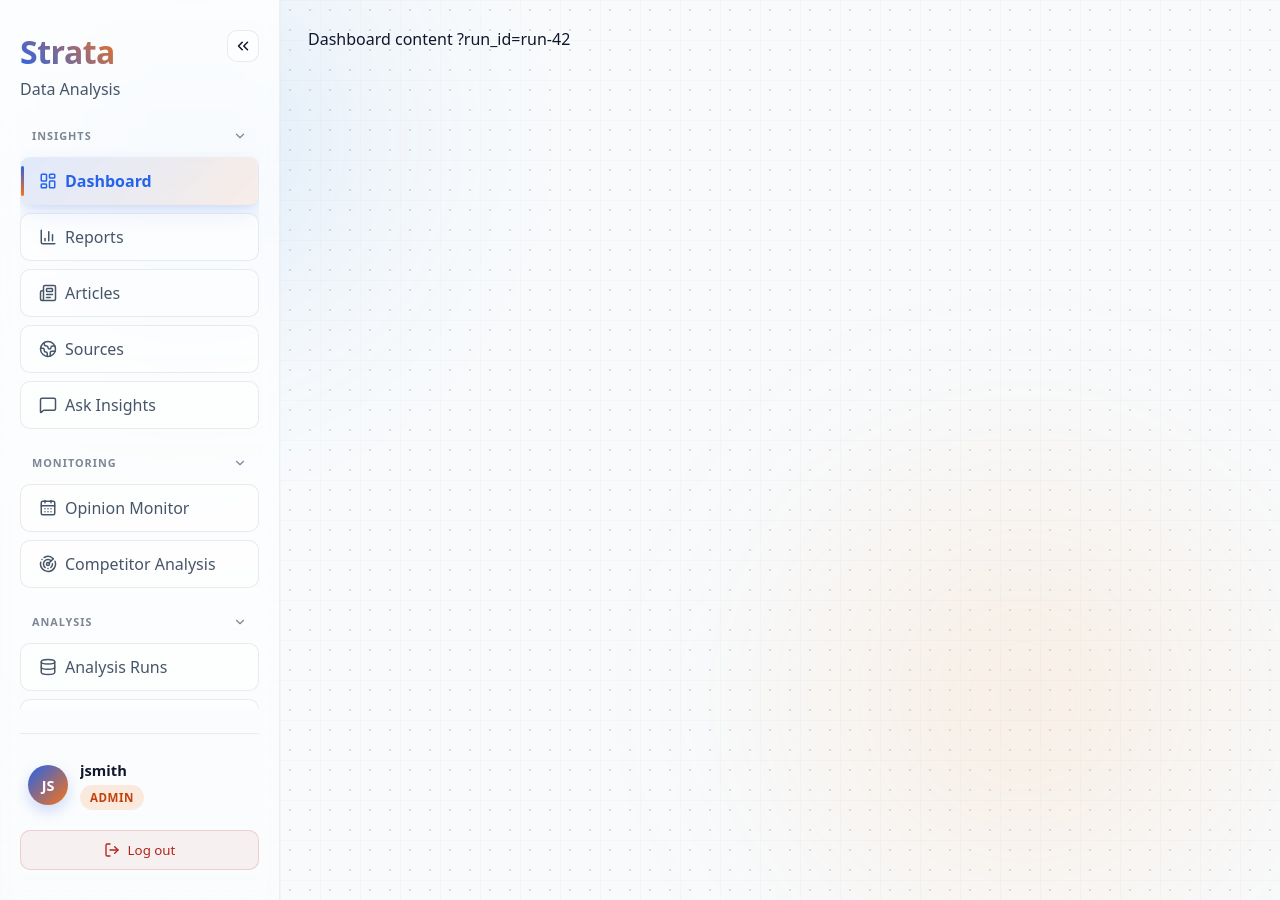
it: AppShell / Sidebar - RTL navigation and mobile drawer › preserves the analysis run selection when navigating from dashboard to reports
Click the link "Reports" at (140, 237), box [20,213,259,261]
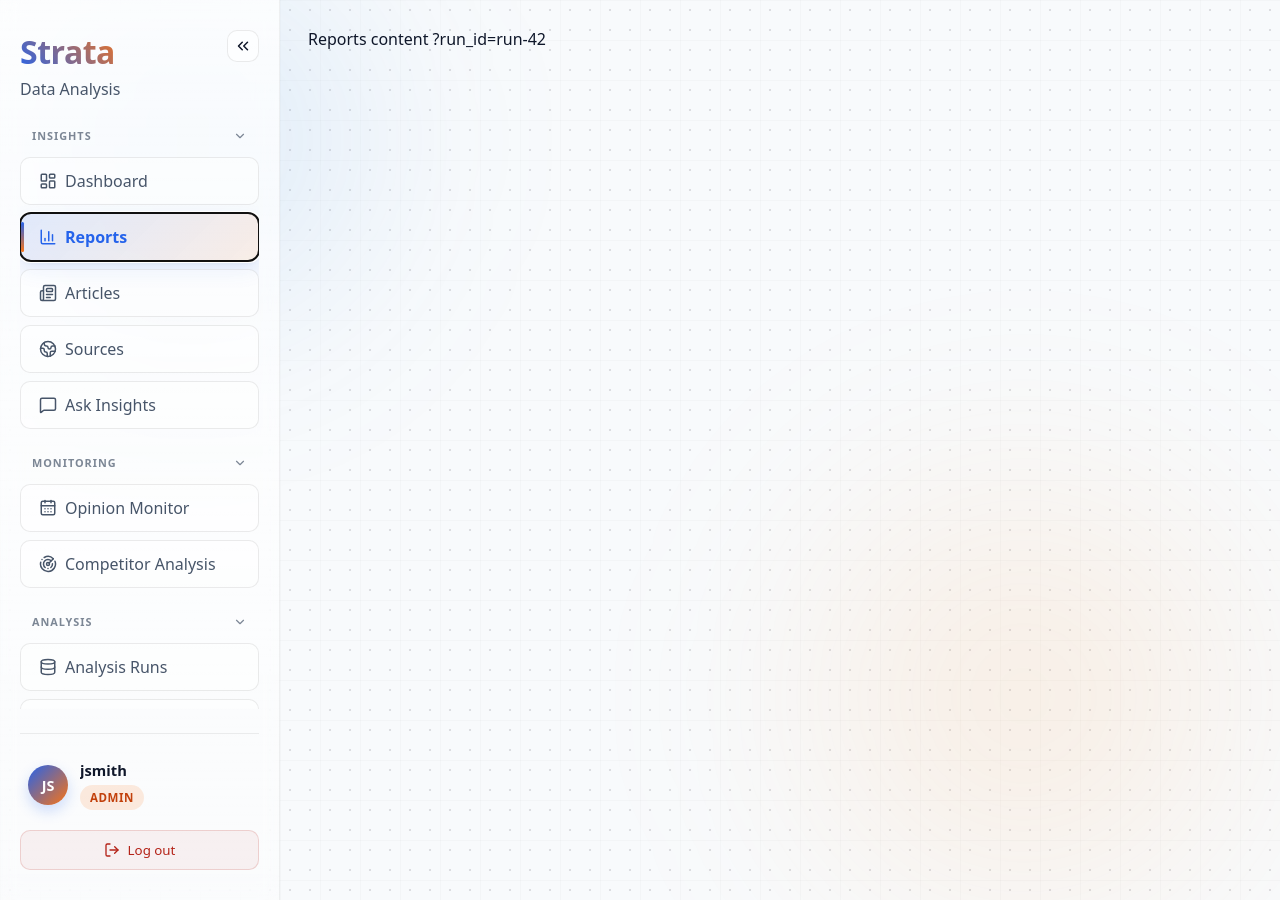
Expected: the text named "Current search" reads "?run_id=run-42", [433,28,546,50]
Result: the text "Reports content" is shown at [308,28,546,50]
